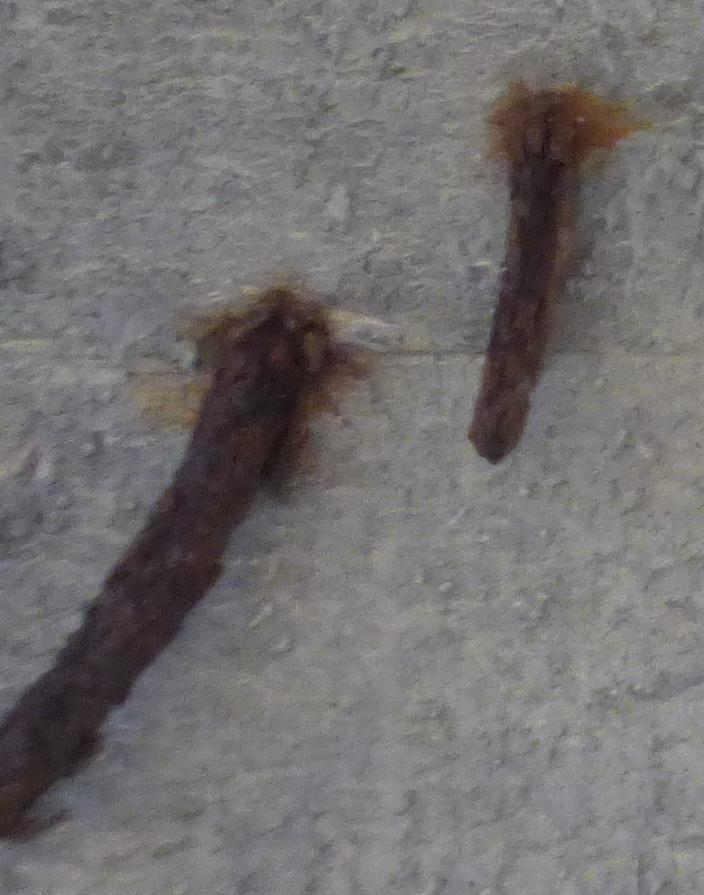Exposed reinforcement: (1, 286, 331, 848), (466, 84, 645, 467)
